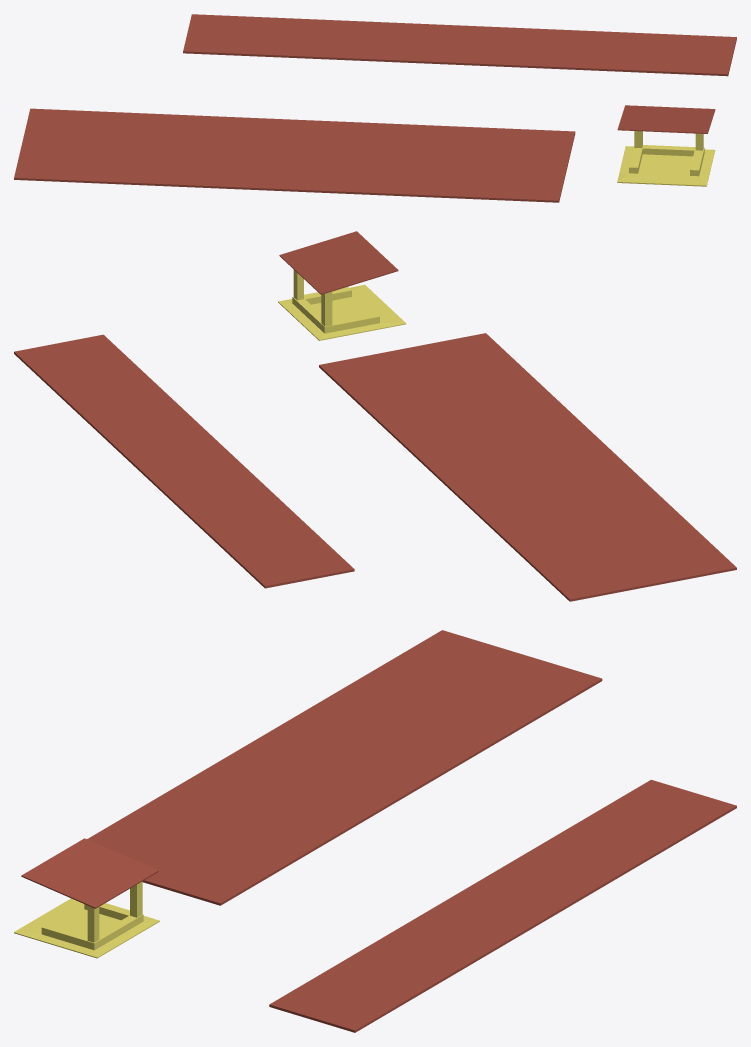
File: Gonzaga_OtherBits.fbx
3 renders of one model, top to bottom at view 1: azimuth 30°, elevation 25°; view 2: azimuth 150°, elevation 25°; view 3: azimuth 270°, elevation 25°, orthographic. The views are drawn at different scales.
Parts seen in each view (by area): view 1: Parking Pavement, Parking Pavement.001, Cube.002, Shed; view 2: Parking Pavement, Parking Pavement.001, Cube.002, Shed; view 3: Parking Pavement, Parking Pavement.001, Cube.002, Shed.
Boxes of the visible parts, bbox=[...] form: Parking Pavement: bbox=[14, 108, 575, 202]; Parking Pavement.001: bbox=[183, 14, 736, 76]; Cube.002: bbox=[617, 131, 715, 186]; Shed: bbox=[617, 105, 715, 133]; Parking Pavement: bbox=[319, 333, 736, 601]; Parking Pavement.001: bbox=[14, 334, 354, 588]; Cube.002: bbox=[278, 270, 406, 340]; Shed: bbox=[279, 231, 398, 294]; Parking Pavement: bbox=[87, 630, 602, 905]; Parking Pavement.001: bbox=[269, 779, 736, 1032]; Cube.002: bbox=[14, 881, 159, 958]; Shed: bbox=[21, 838, 158, 908].
Bounding box in the file's own units: 13049 × 915 × 9955.
